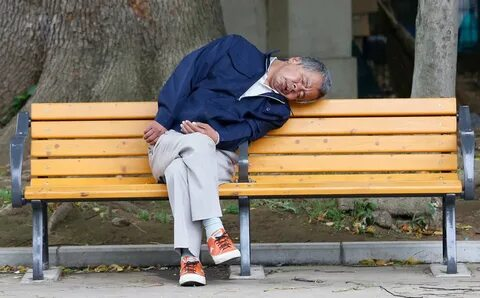sleep: (151, 36, 328, 201)
